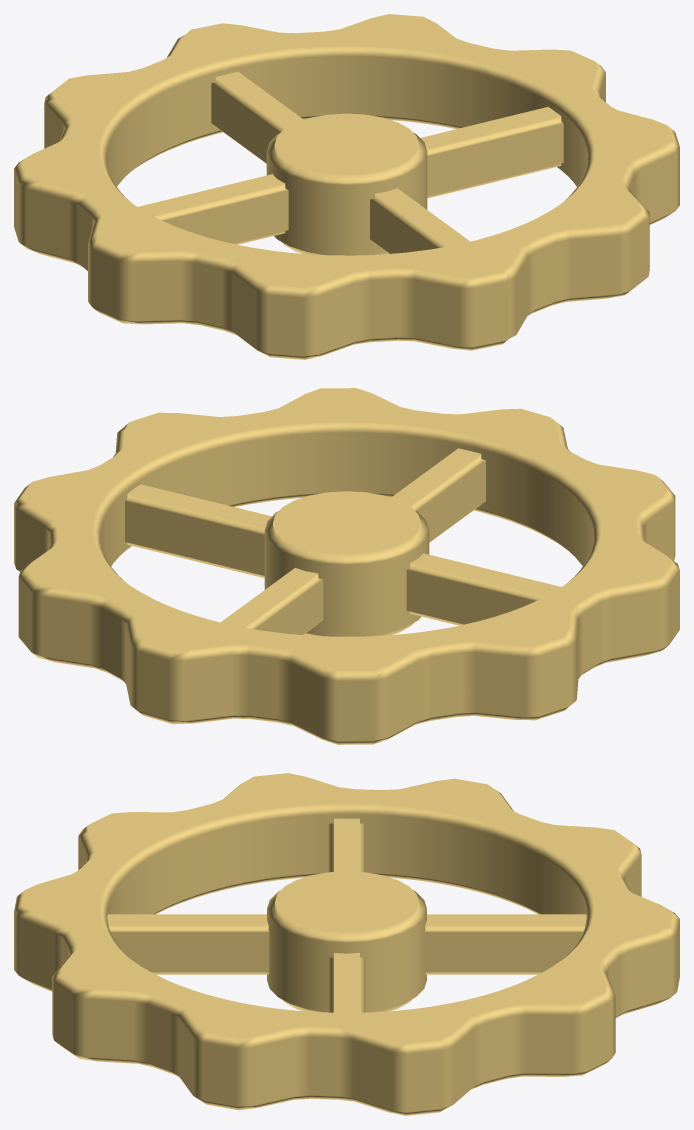
Rendered from boss_gear_small.glb.
3 views of the same model, one above another, from view 1: azimuth 30°, elevation 25°; view 2: azimuth 150°, elevation 25°; view 3: azimuth 270°, elevation 25° (orthographic). The views are drawn at different scales.
Visible parts, largest first — view 1: GearSmall, GearSmall_Hub; view 2: GearSmall, GearSmall_Hub; view 3: GearSmall, GearSmall_Hub.
Boxes of the visible parts, x1,y1,x2,y2 form: GearSmall: [14, 14, 679, 359]; GearSmall_Hub: [266, 113, 427, 255]; GearSmall: [14, 388, 679, 744]; GearSmall_Hub: [264, 491, 429, 636]; GearSmall: [14, 773, 679, 1115]; GearSmall_Hub: [267, 871, 426, 1012].
Size of the model in its own units: 2.46 by 0.354 by 2.5.
